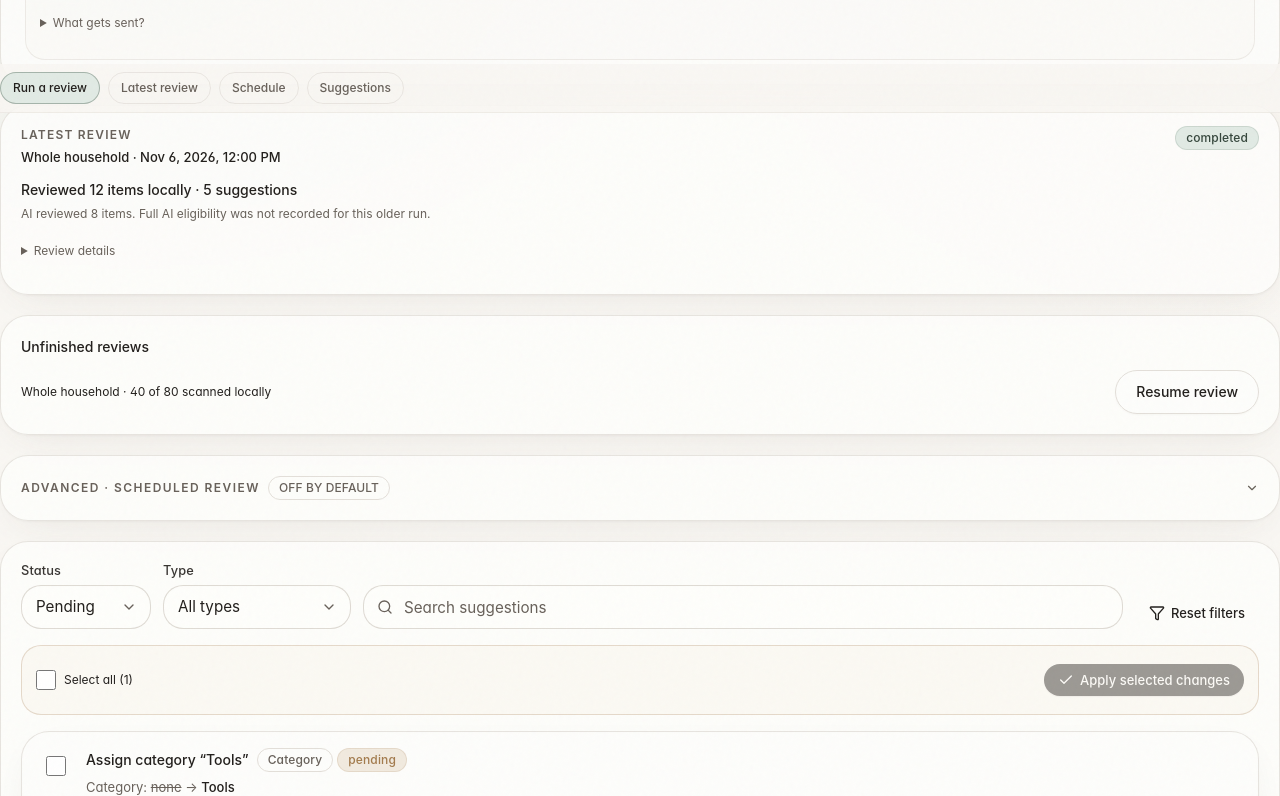
ReviewPage › can resume an unfinished manual review after a newer scheduled review
The width and height of the screenshot is (1280, 796).
(page scrolled)
Click the button "Resume review".
click(1187, 392)  # box [1115,370,1259,414]
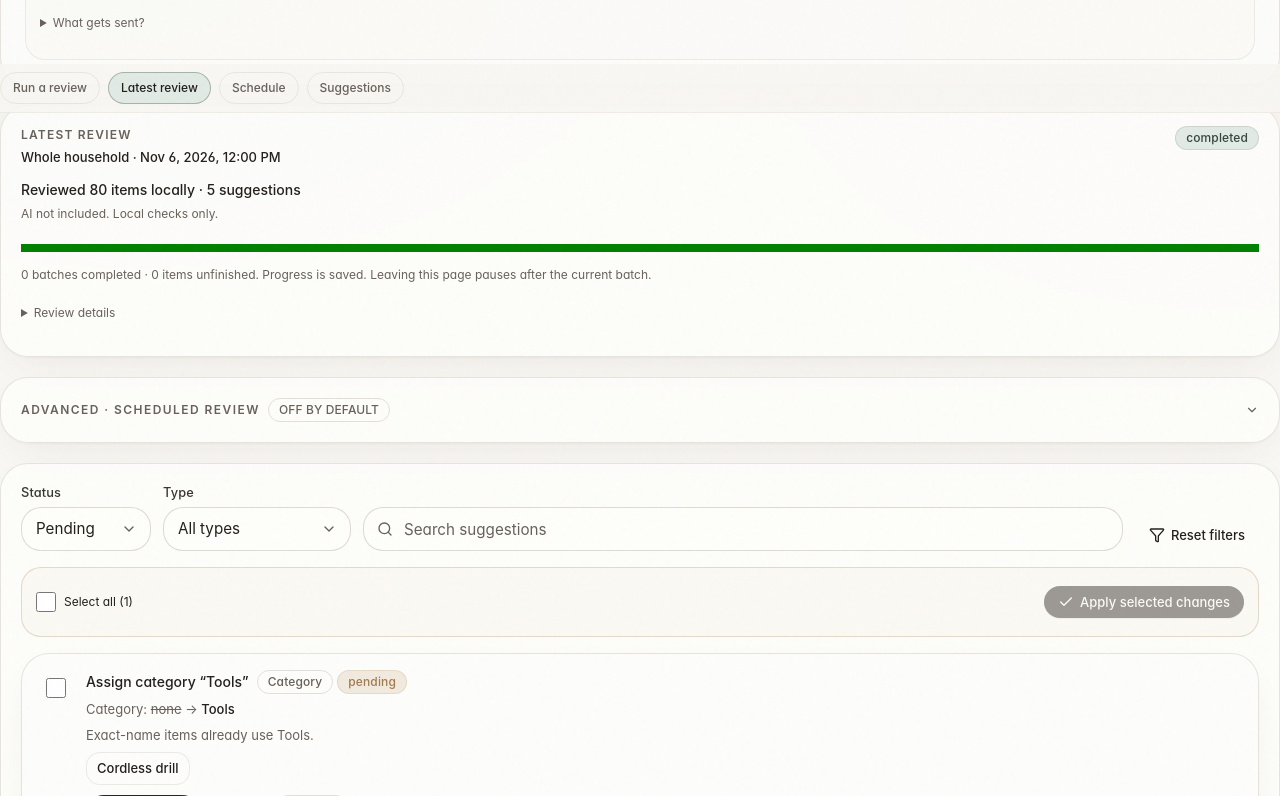
Expected: the message shows "Reviewed 80 items locally", [21,181,301,198]
